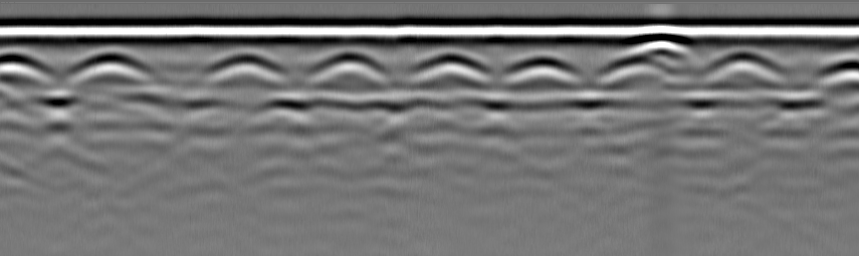pipe: (628, 28, 697, 57)
steel: (705, 47, 790, 89), (67, 49, 157, 88), (410, 50, 496, 86), (306, 49, 394, 84), (505, 53, 583, 86), (600, 54, 673, 89), (211, 54, 288, 85), (1, 51, 50, 80), (820, 56, 859, 87)
